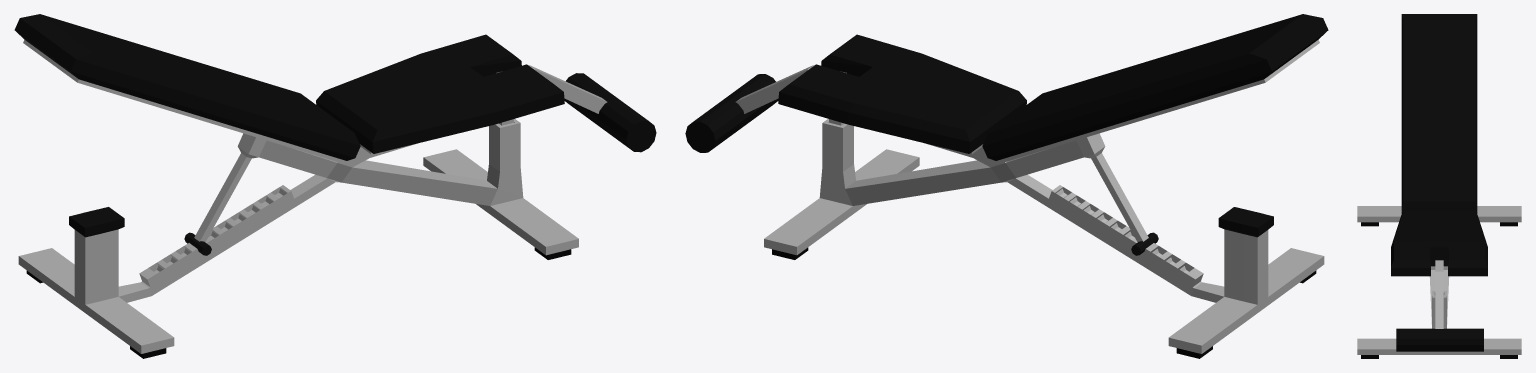
File: GymBench.008.fbx
The picture shows the model from 3 angles, left to right: view 1: azimuth 30°, elevation 25°; view 2: azimuth 150°, elevation 25°; view 3: azimuth 270°, elevation 25°; orthographic projection. The views are drawn at different scales.
Parts seen in each view (by area): view 1: GymBench.008; view 2: GymBench.008; view 3: GymBench.008.
Boxes of the visible parts, <box> form: GymBench.008: <box>14,14,656,358</box>; GymBench.008: <box>685,14,1328,358</box>; GymBench.008: <box>1357,14,1521,358</box>.
Size of the model in its own units: 140 by 66.2 by 51.19.
